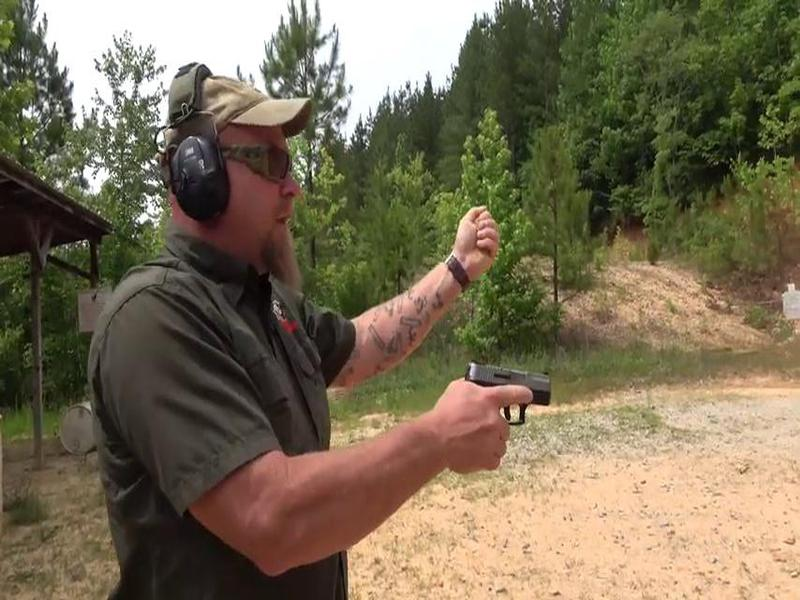Pistola: (430, 343, 567, 464)
